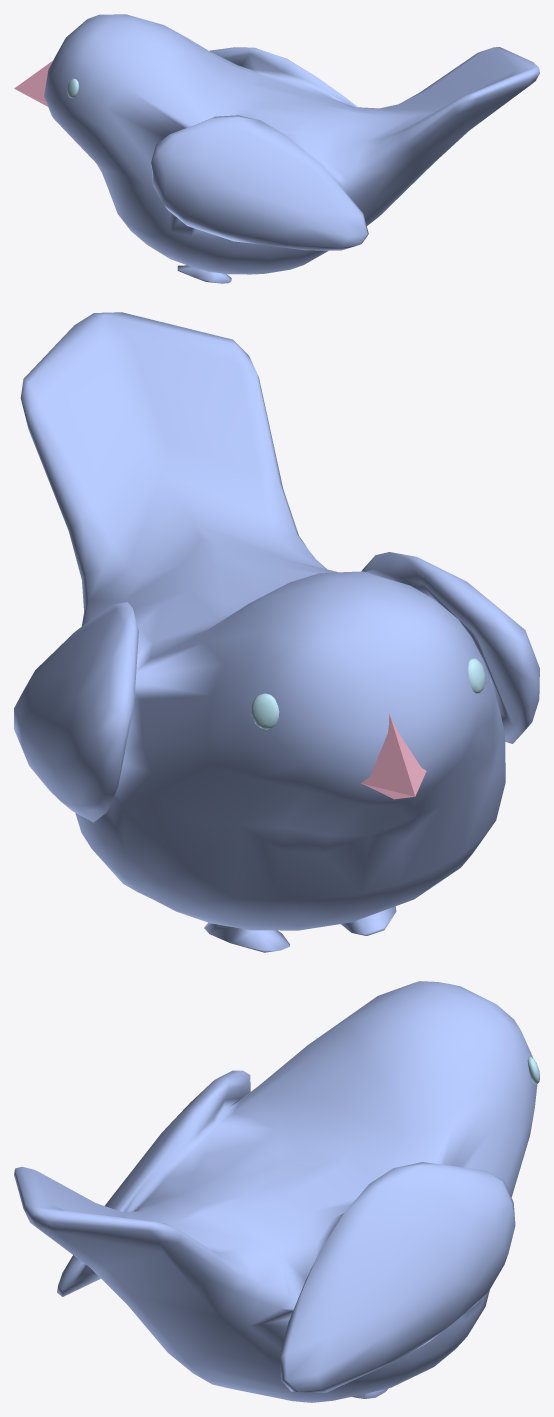
3 views of the same model, one above another, from view 1: azimuth 30°, elevation 25°; view 2: azimuth 150°, elevation 25°; view 3: azimuth 270°, elevation 25° (orthographic). The views are drawn at different scales.
Parts seen in each view (by area): view 1: s.0865, s.0867; view 2: s.0865, s.0867, p.0868; view 3: s.0865.
Part boxes in pixels (box(x1,y1,x2,y2)): s.0865: box(44, 14, 539, 283); s.0867: box(14, 60, 53, 106); s.0865: box(14, 312, 539, 952); s.0867: box(361, 714, 426, 799); p.0868: box(251, 658, 485, 729); s.0865: box(14, 981, 537, 1402).
Bounding box in the file's own units: 46.07 × 28.79 × 41.
